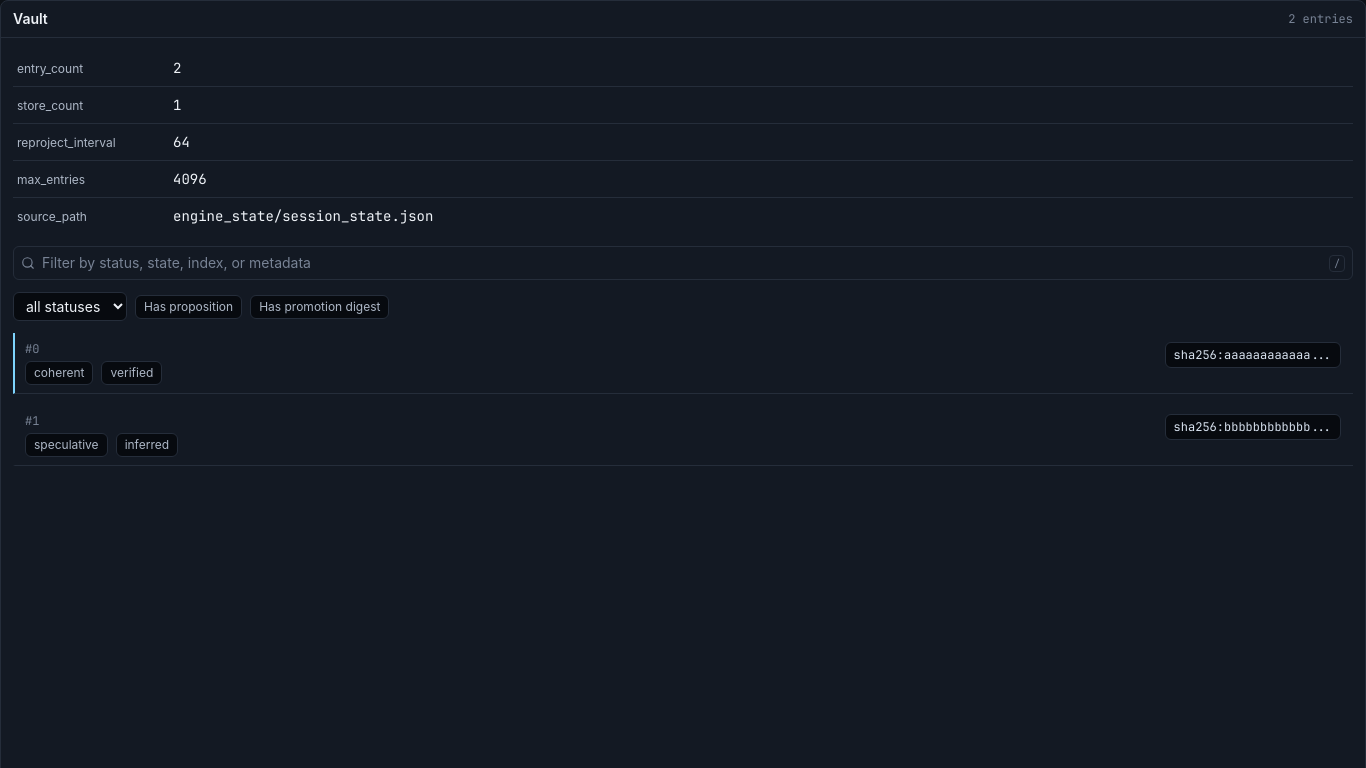
VaultRoute › 'Has proposition' facet keeps only entries carrying propositional_form
The width and height of the screenshot is (1366, 768).
Check: the text "entry_count" is shown, box [17,61,83,76]
Click the switch labelled "Has proposition" at point(189, 306), box [135,294,242,318]
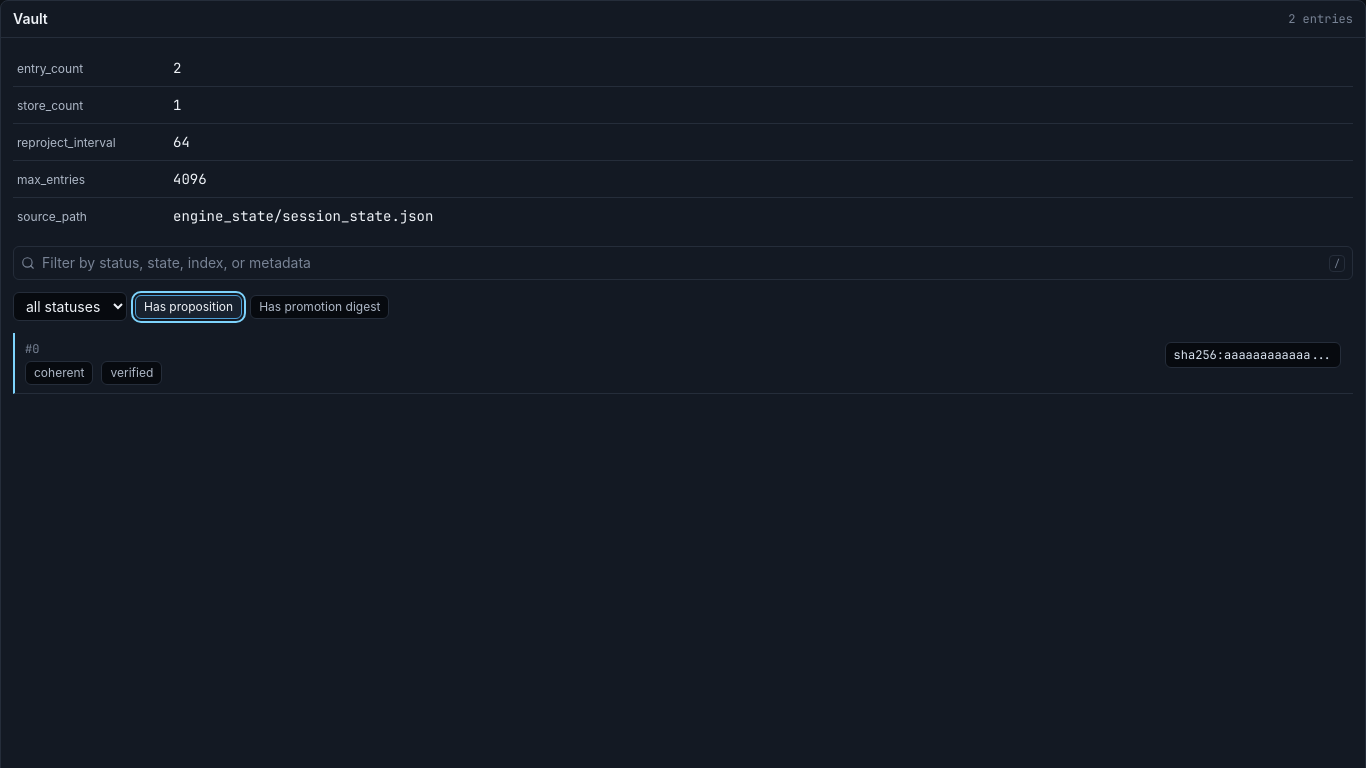
Check: the option shows "verified", box [13,333,1353,394]
Check: the number of options is 1, box [13,333,1353,394]
